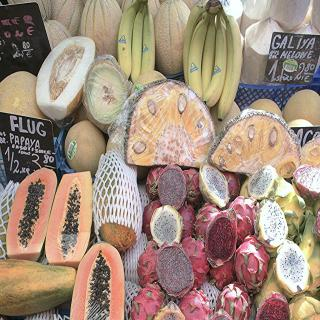Banana: (182, 0, 243, 124), (118, 0, 141, 78), (128, 0, 144, 85), (141, 2, 155, 70)
